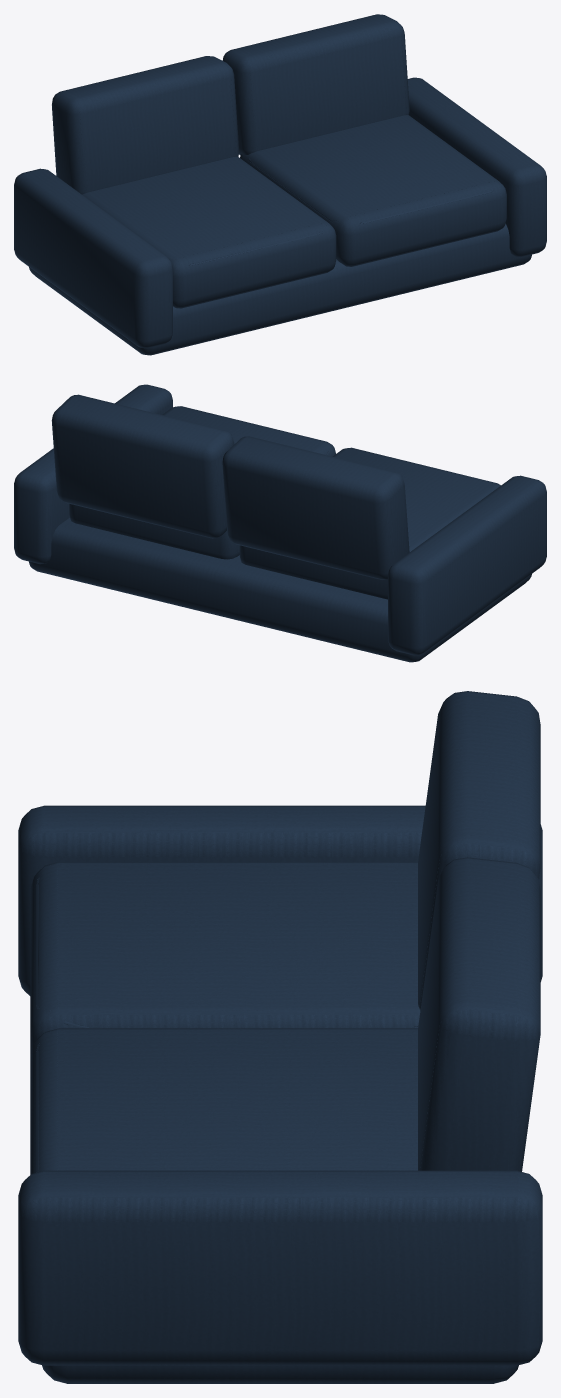
Rendered from boneless-loveseat.glb.
The picture shows the model from 3 angles, top to bottom: view 1: azimuth 30°, elevation 25°; view 2: azimuth 150°, elevation 25°; view 3: azimuth 270°, elevation 25°; orthographic projection. The views are drawn at different scales.
Visible parts, largest first — view 1: boneless-loveseat authored assembly; view 2: boneless-loveseat authored assembly; view 3: boneless-loveseat authored assembly.
Boxes of the visible parts, box(x1,y1,x2,y2) form: boneless-loveseat authored assembly: box(14, 14, 546, 355); boneless-loveseat authored assembly: box(14, 384, 546, 662); boneless-loveseat authored assembly: box(18, 691, 542, 1383).
Bounding box in the file's own units: 1.9 × 0.78 × 1.05.
2 materials, 1 textured.
